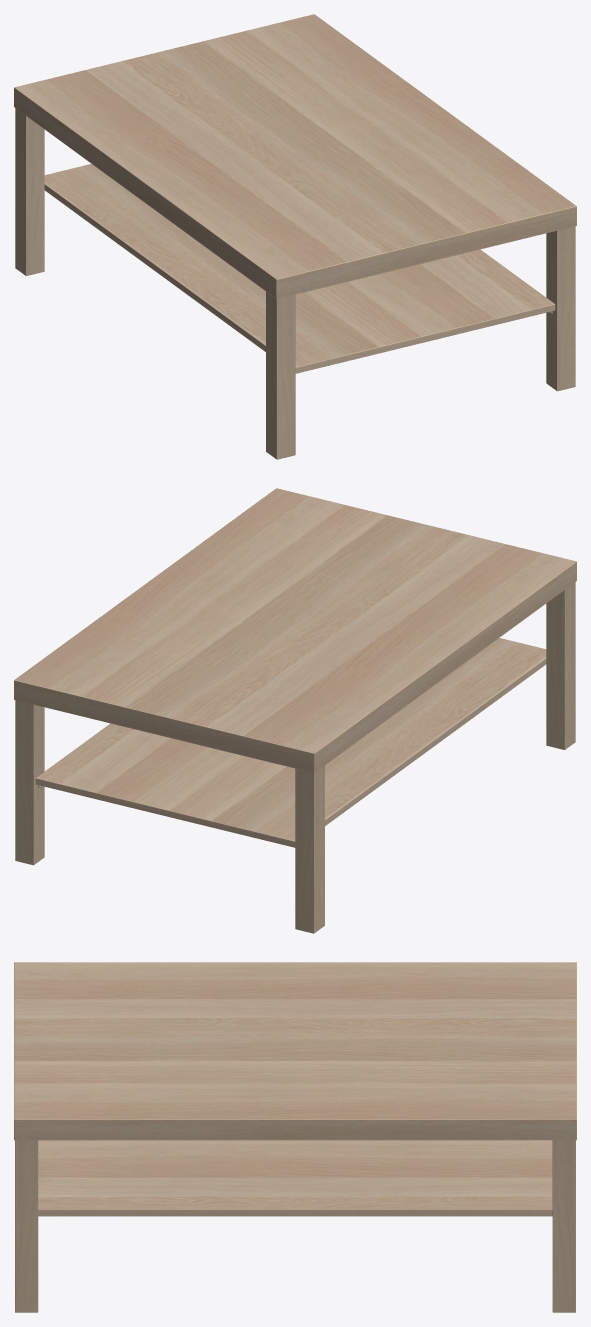
File: 37 - LACK Coffee table - white stained oak effect 118x78 cm.glb
The picture shows the model from 3 angles, top to bottom: view 1: azimuth 30°, elevation 25°; view 2: azimuth 150°, elevation 25°; view 3: azimuth 270°, elevation 25°; orthographic projection. The views are drawn at different scales.
Visible parts, largest first — view 1: model; view 2: model; view 3: model.
Boxes of the visible parts, <box> form: model: <box>14,14,576,459</box>; model: <box>14,488,576,933</box>; model: <box>14,962,576,1312</box>.
Size of the model in its own units: 0.78 by 0.449 by 1.18.
1 material, 1 textured.
